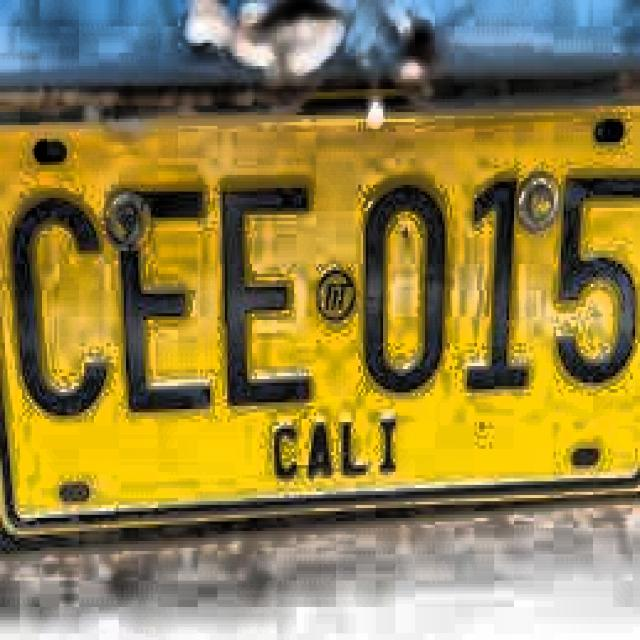plate: (1, 100, 638, 533)
